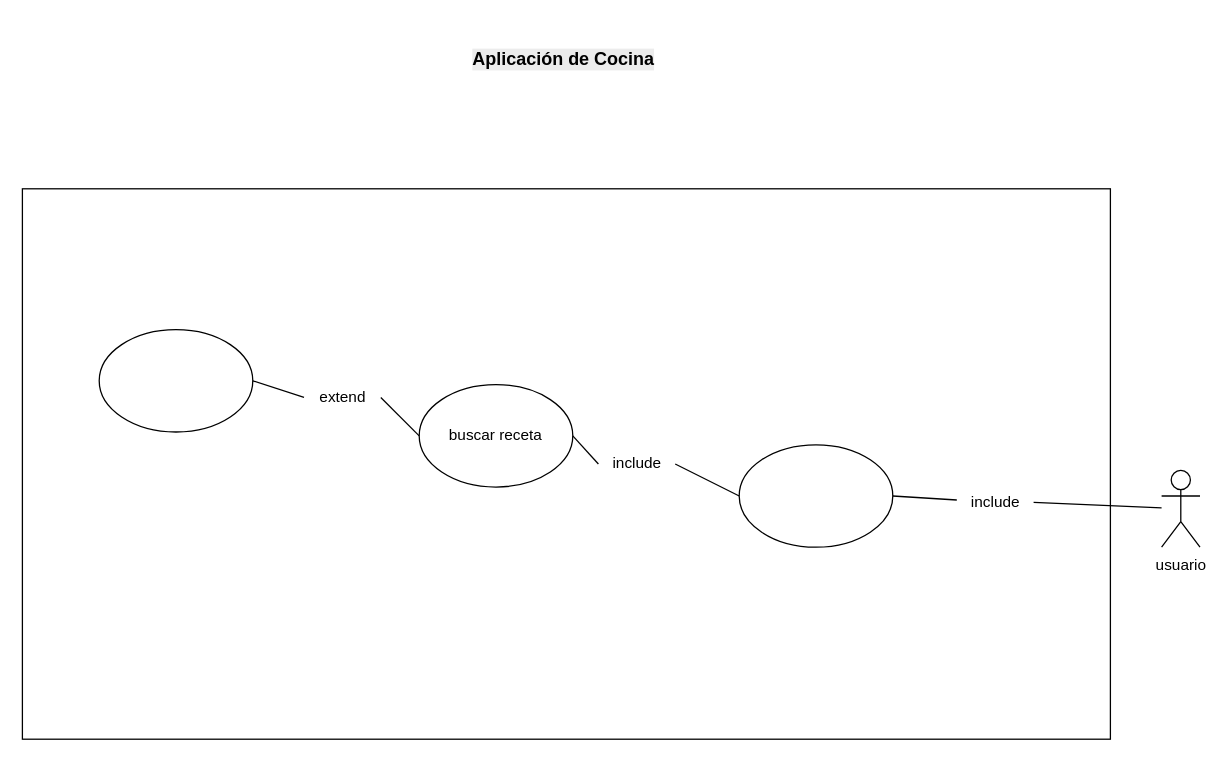
Some shapes in this 1228 by 762 pixel diagram are drawn without their labels. The centre of each missing label's shape, as x and y in pixels:
"generar lista" belongs at pixel 815 495.
"guardar favorita" belongs at pixel 175 380.
